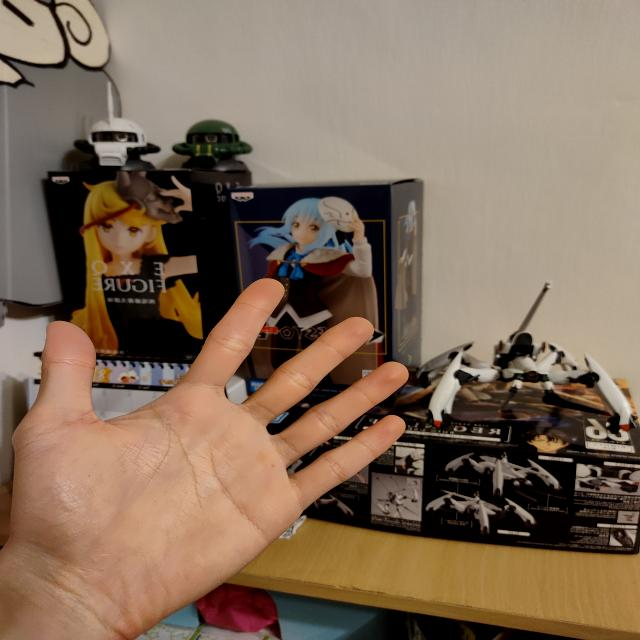no_glove: (0, 265, 415, 640)
